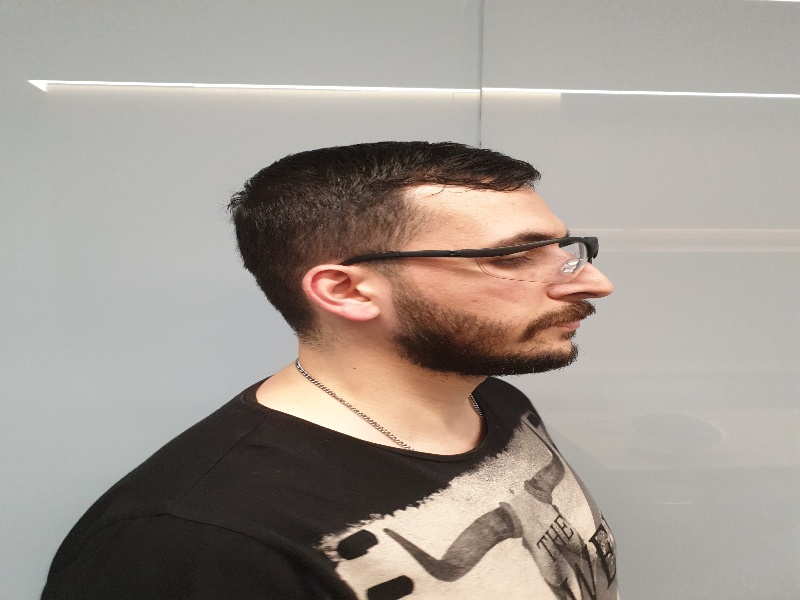Gozluk: (336, 236, 599, 281)
